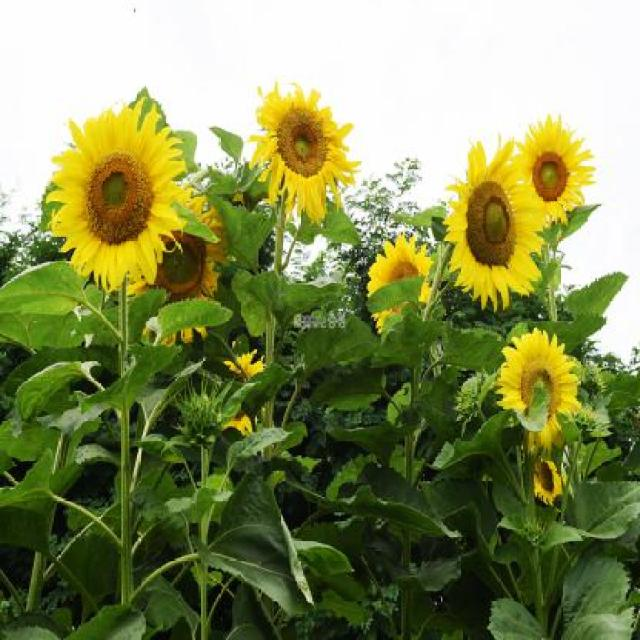sunflower: (37, 79, 205, 296), (428, 122, 549, 321), (245, 77, 357, 231)
